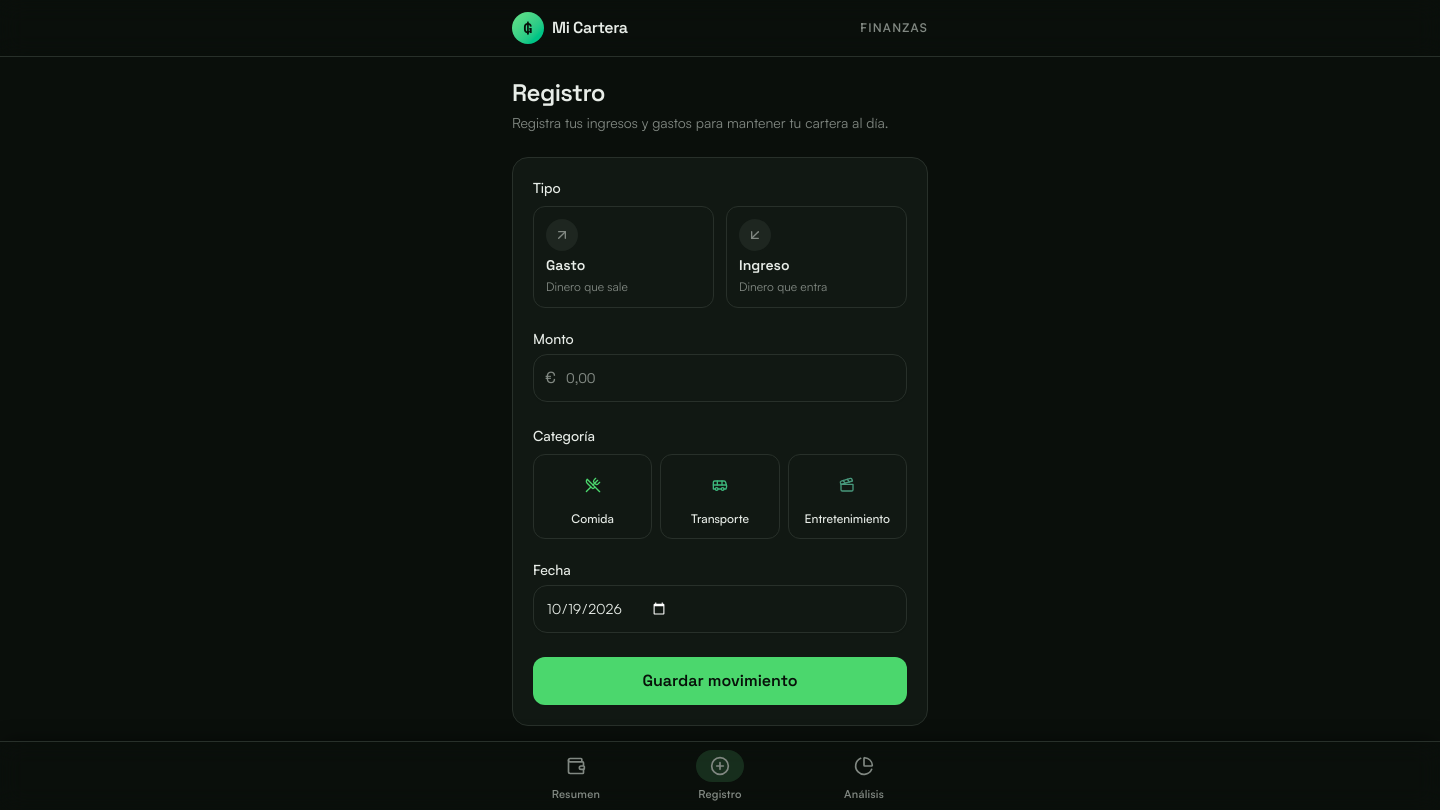
Registro › rejects a non-positive amount
The image size is (1440, 810).
Click the link with test id "nav.registro" at (720,775), box [696,750,744,800]
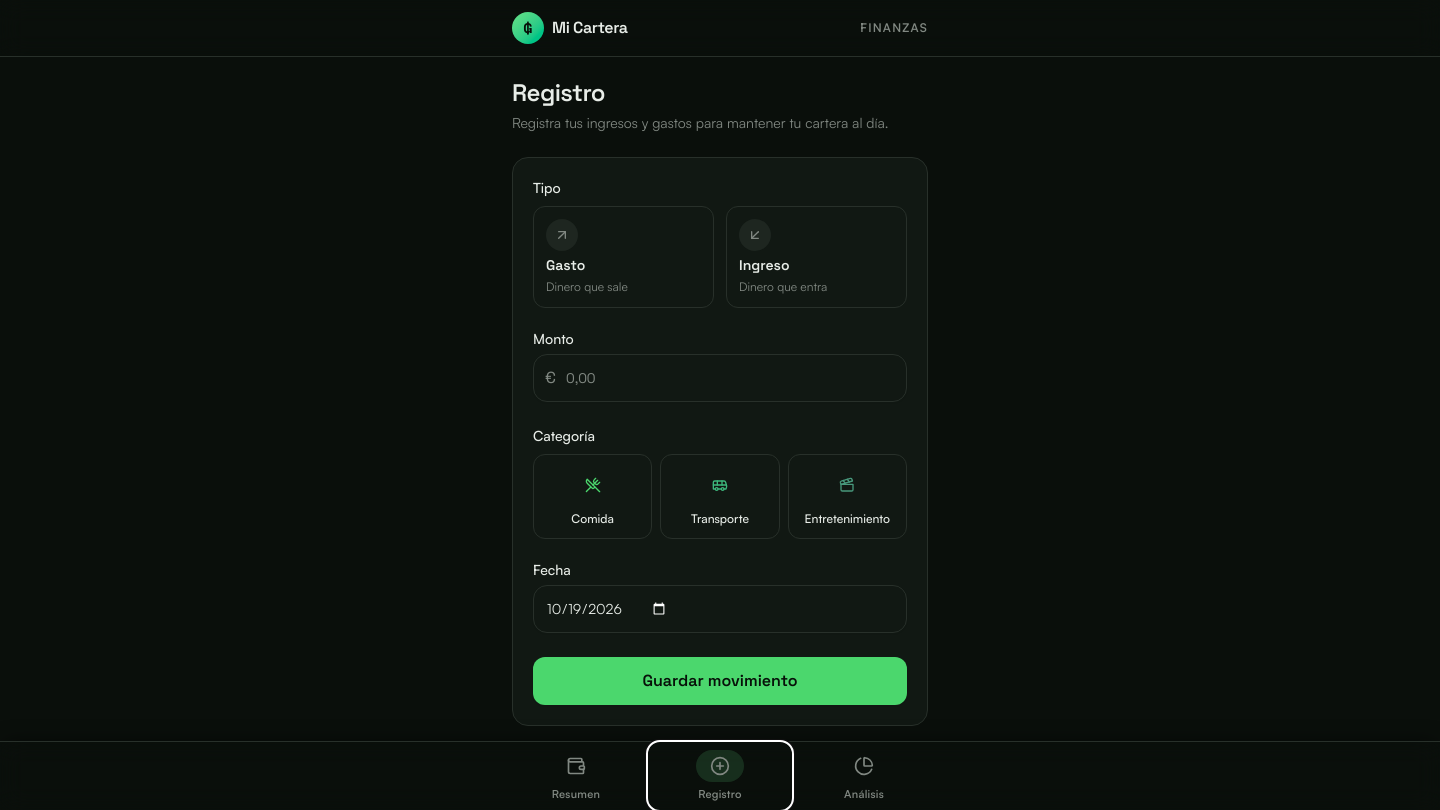
Type "0" into the field with test id "transaction.amount_input" at (720,378), box [533,354,907,402]
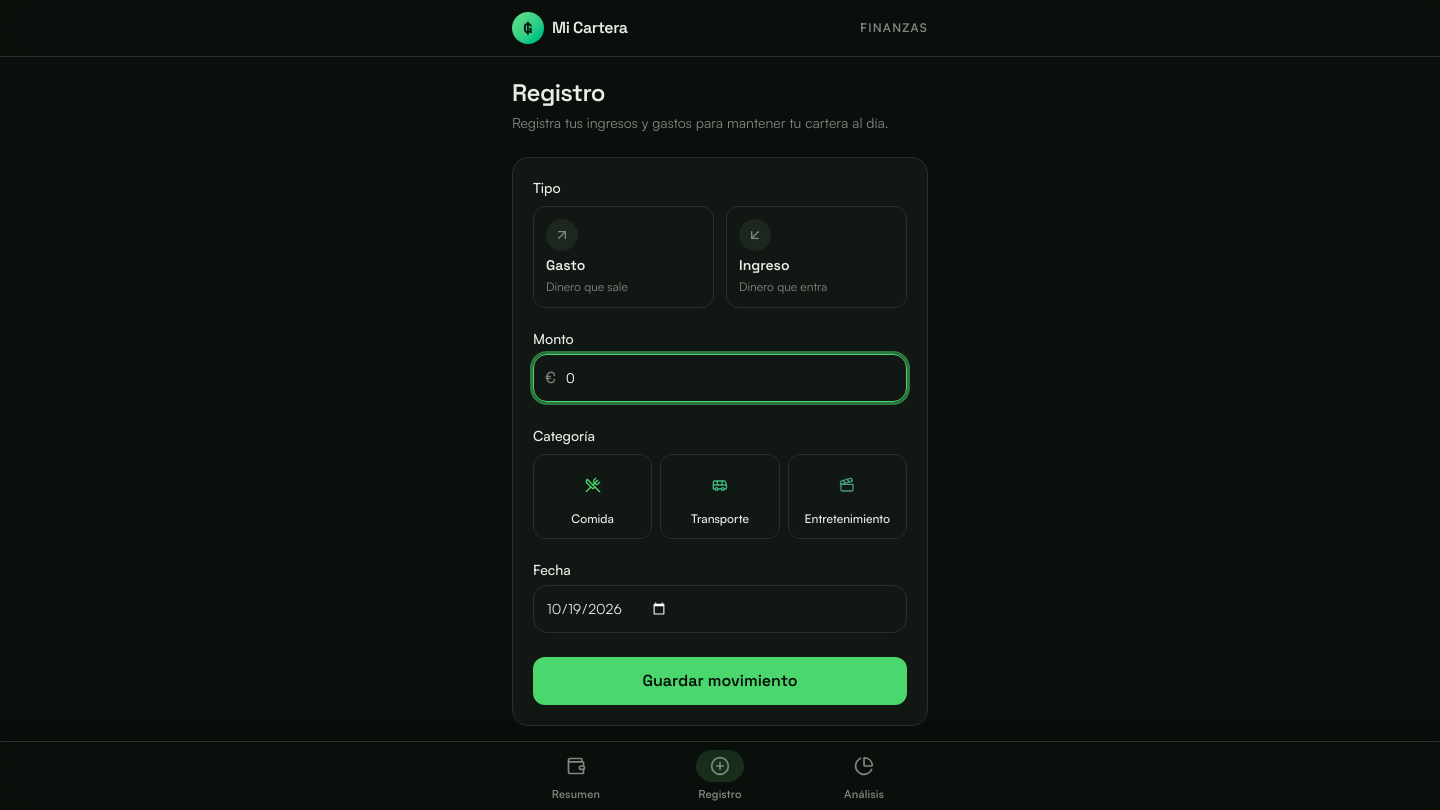
Click the button with test id "transaction.submit_button" at (720,681), box [533,657,907,705]
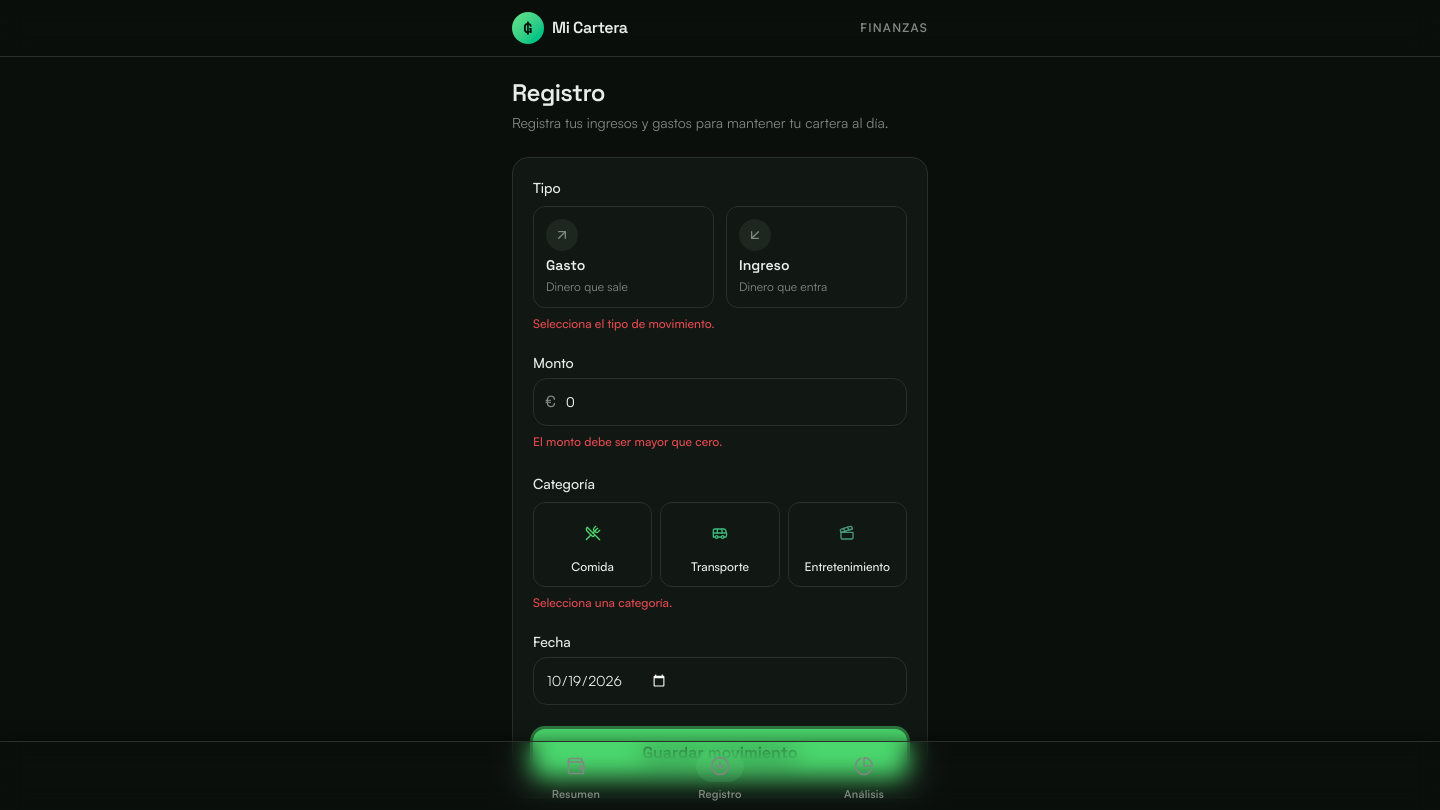
Now the text with test id "transaction.amount.error" shows "mayor que cero", box [533,434,722,449]
